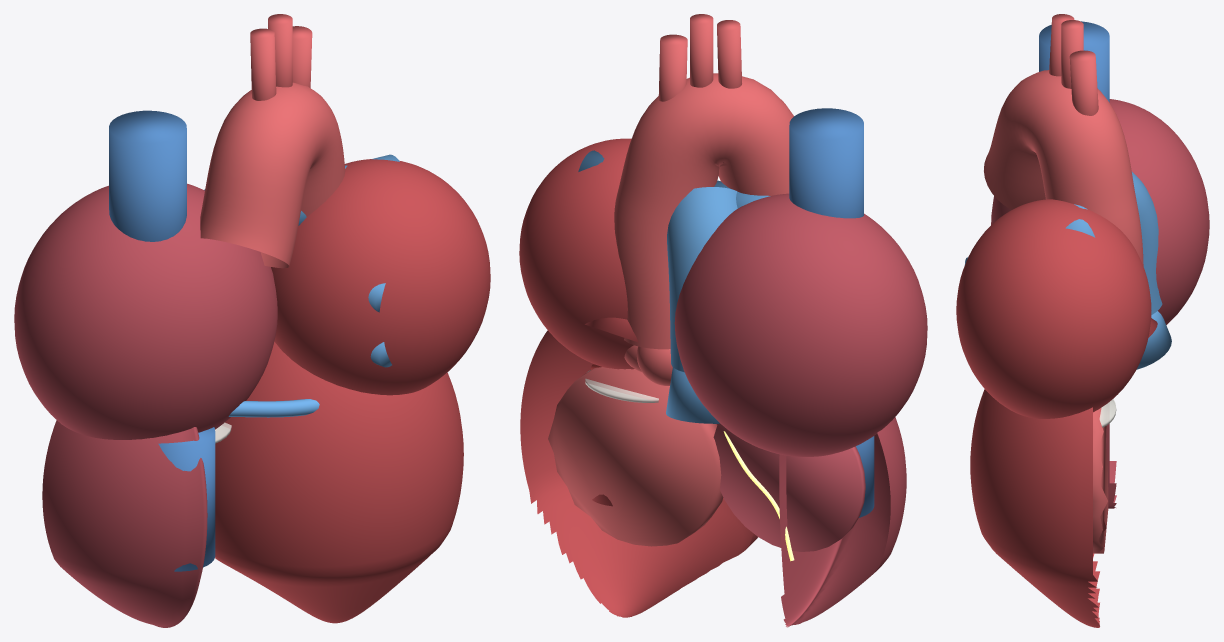
File: heart_realistic.glb
3 views of the same model, side by side, from view 1: azimuth 30°, elevation 25°; view 2: azimuth 150°, elevation 25°; view 3: azimuth 270°, elevation 25° (orthographic). The views are drawn at different scales.
Visible parts, largest first — view 1: Right_Atrium, Left_Ventricle, Left_Atrium, Right_Ventricle, Aortic_Arch, Superior_Vena_Cava, Inferior_Vena_Cava, Left_Subclavian_Artery, Left_Common_Carotid, Coronary_Sinus, Brachiocephalic_Artery; view 2: Right_Atrium, Aortic_Arch, LV_Myocardial_Cutface, Left_Ventricle, Left_Atrium, RV_Myocardial_Cutface, Right_Ventricle, Superior_Vena_Cava, Pulmonary_Trunk, Brachiocephalic_Artery, Left_Common_Carotid, Left_Subclavian_Artery (+6 smaller); view 3: Left_Atrium, Left_Ventricle, Aortic_Arch, Right_Atrium, LV_Myocardial_Cutface, Pulmonary_Trunk, Superior_Vena_Cava, Brachiocephalic_Artery, Left_Common_Carotid, Conus_Arteriosus, Left_Subclavian_Artery, Right_Ventricle.
Part boxes in pixels (bbox=[...]): Right_Atrium: bbox=[14, 183, 277, 439]; Left_Ventricle: bbox=[215, 341, 463, 623]; Left_Atrium: bbox=[271, 159, 490, 395]; Right_Ventricle: bbox=[42, 420, 207, 627]; Aortic_Arch: bbox=[200, 82, 345, 268]; Superior_Vena_Cava: bbox=[109, 110, 186, 241]; Inferior_Vena_Cava: bbox=[158, 427, 215, 571]; Left_Subclavian_Artery: bbox=[250, 28, 276, 100]; Left_Common_Carotid: bbox=[268, 14, 292, 87]; Coronary_Sinus: bbox=[228, 399, 319, 417]; Brachiocephalic_Artery: bbox=[292, 26, 312, 87]; Right_Atrium: bbox=[674, 193, 927, 456]; Aortic_Arch: bbox=[614, 73, 793, 349]; LV_Myocardial_Cutface: bbox=[548, 367, 723, 546]; Left_Ventricle: bbox=[520, 330, 757, 617]; Left_Atrium: bbox=[519, 138, 634, 369]; RV_Myocardial_Cutface: bbox=[713, 423, 865, 551]; Right_Ventricle: bbox=[779, 417, 906, 627]; Superior_Vena_Cava: bbox=[789, 108, 863, 218]; Pulmonary_Trunk: bbox=[667, 187, 737, 372]; Brachiocephalic_Artery: bbox=[658, 34, 687, 101]; Left_Common_Carotid: bbox=[690, 14, 713, 87]; Left_Subclavian_Artery: bbox=[717, 20, 741, 88]; Left_Atrium: bbox=[956, 199, 1151, 418]; Left_Ventricle: bbox=[970, 389, 1099, 627]; Aortic_Arch: bbox=[984, 70, 1143, 266]; Right_Atrium: bbox=[991, 99, 1209, 324]; LV_Myocardial_Cutface: bbox=[1093, 407, 1108, 553]; Pulmonary_Trunk: bbox=[1131, 171, 1162, 314]; Superior_Vena_Cava: bbox=[1039, 21, 1109, 102]; Brachiocephalic_Artery: bbox=[1069, 50, 1098, 115]; Left_Common_Carotid: bbox=[1061, 20, 1083, 88]; Conus_Arteriosus: bbox=[1136, 311, 1171, 369]; Left_Subclavian_Artery: bbox=[1049, 14, 1074, 76]; Right_Ventricle: bbox=[1106, 423, 1116, 508].
Size of the model in its own units: 4.77 by 6.77 by 2.73.
